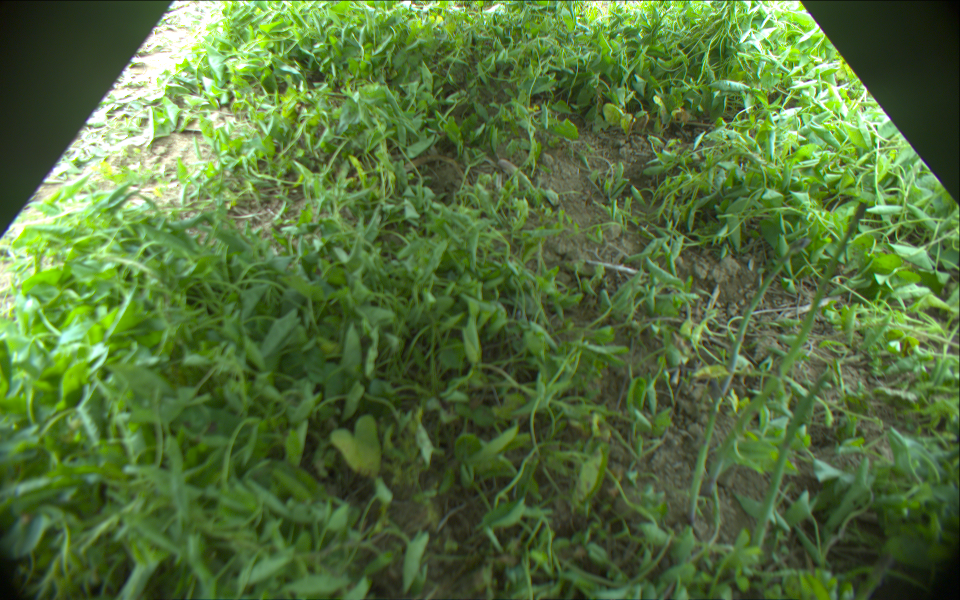aspa: (705, 201, 869, 493), (686, 237, 812, 528), (744, 368, 831, 565)
